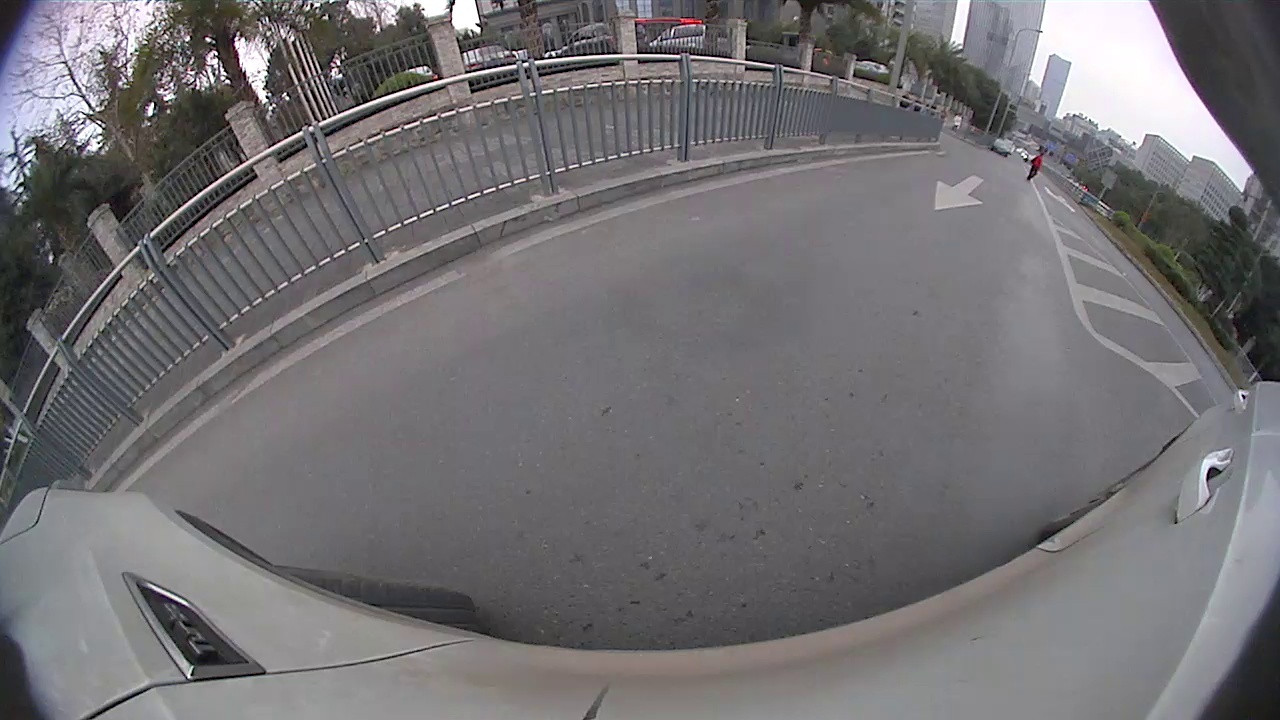car: (1110, 270, 1140, 308), (253, 129, 289, 150)
